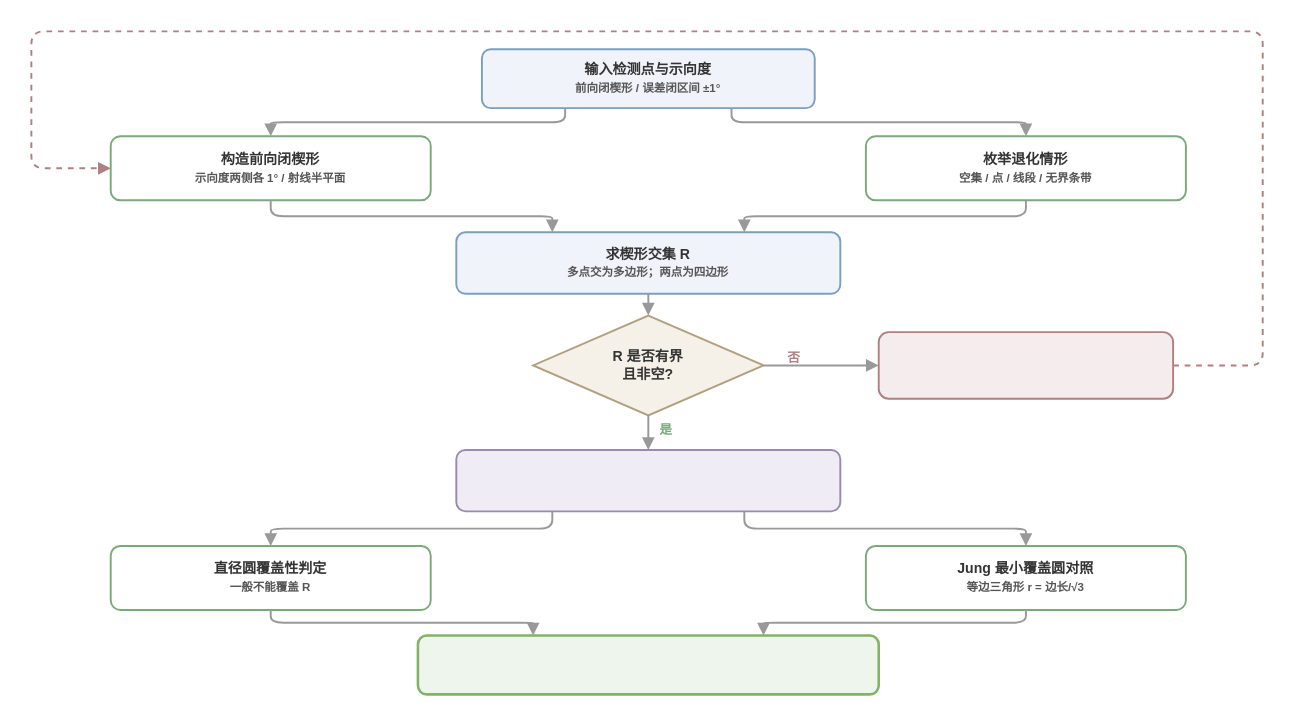
The diagram is 1297 pixels wide and 718 high, and some of its shapes have lost their labels. Each missing label, with the box of its shape:
计算几何直径 diam(R) 最大点对距离，非覆盖圆直径: (455, 448, 841, 512)
输出交会算法与覆盖性结论 后续清除须核验豪斯多夫半径 ≤20 m: (416, 634, 879, 695)
退化输出 报告空 / 无界；不强制多边形: (877, 331, 1174, 399)
